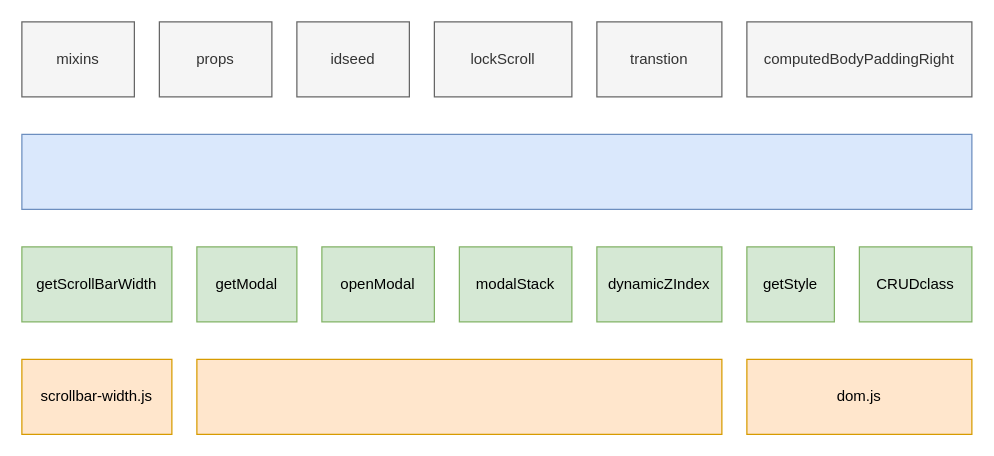
This 994x456 diagram has some shape labels left out. Here are the shapes that lost their labels. From the top down, the box of each, then its label:
(21, 133, 972, 209): popup.js
(196, 358, 722, 434): popup-manager.js
